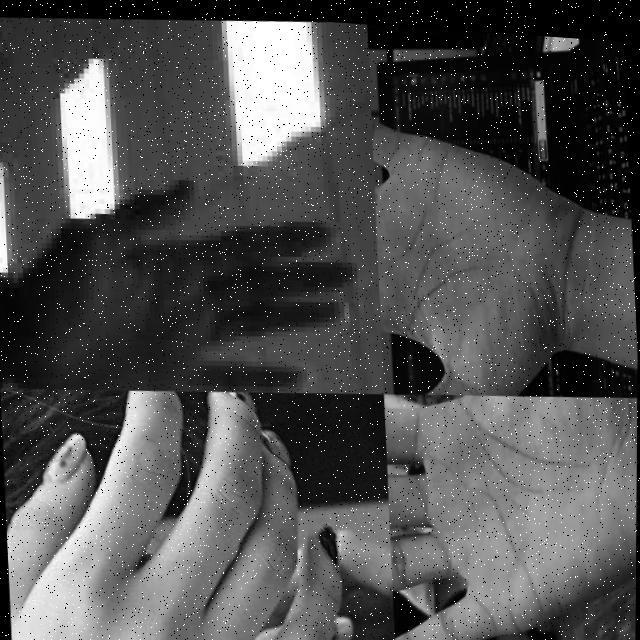no-gloves: (0, 370, 350, 640), (0, 152, 369, 406), (382, 374, 638, 640), (369, 78, 577, 398)
